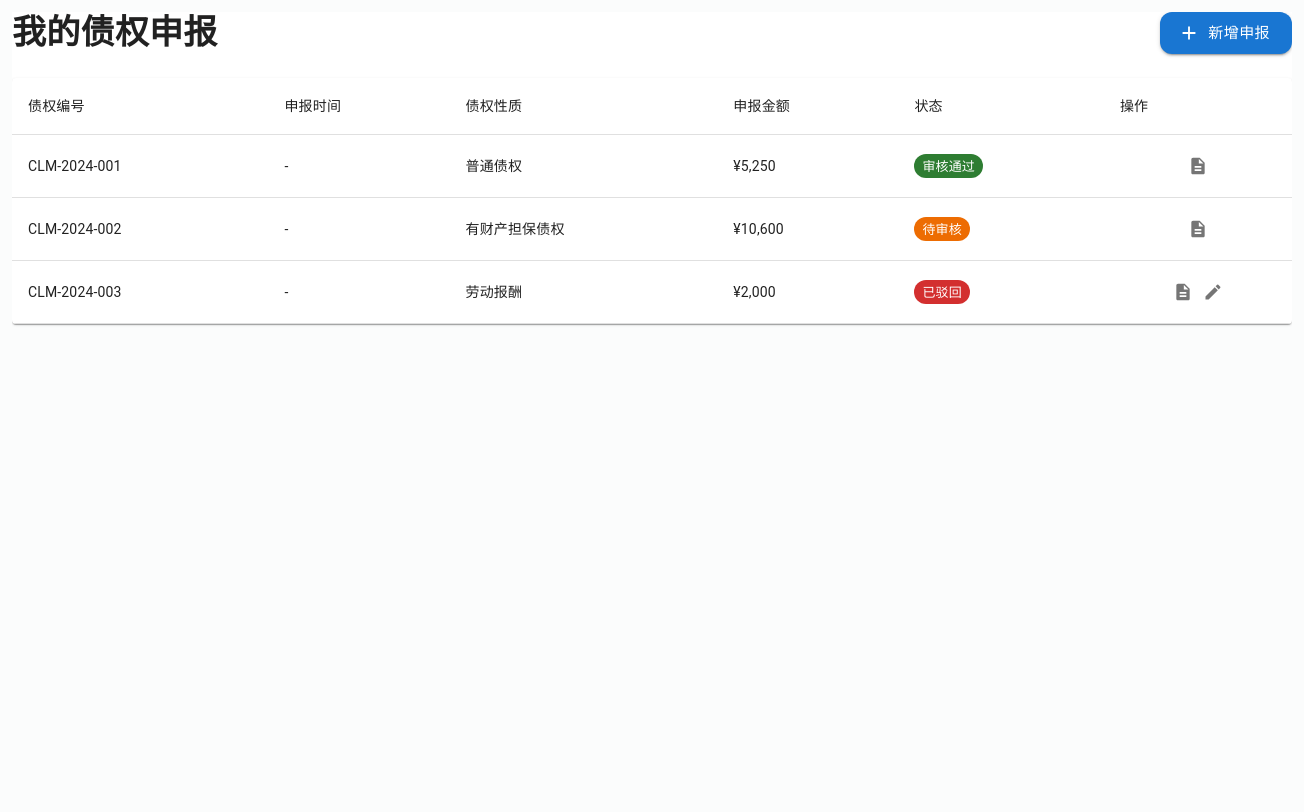
Test: ClaimSubmissionPage › navigates back to list when back button is clicked
Click the button "新增申报": (1226, 33) [1160,12,1292,54]
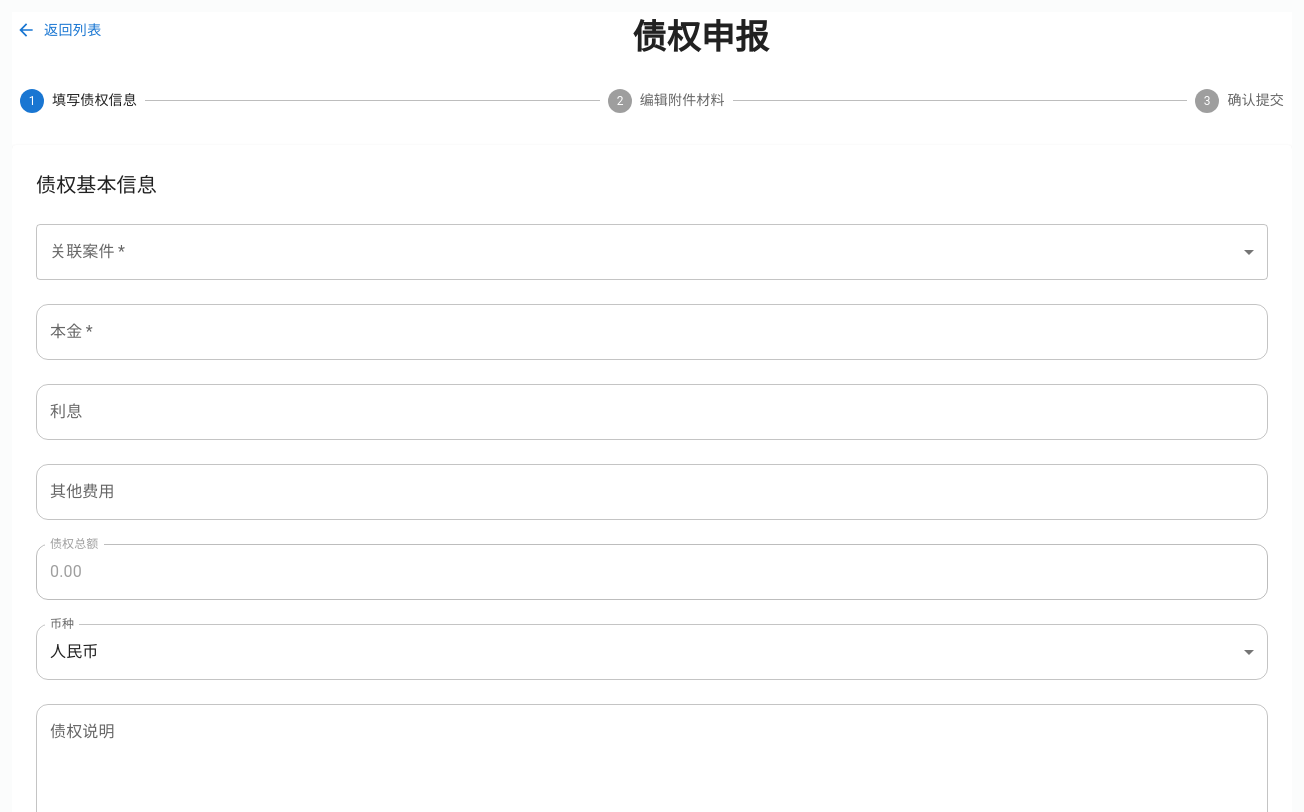
Expected: the heading "债权申报" is shown, [632,17,769,59]
Click the button "返回列表": (61, 30) [12,12,110,48]
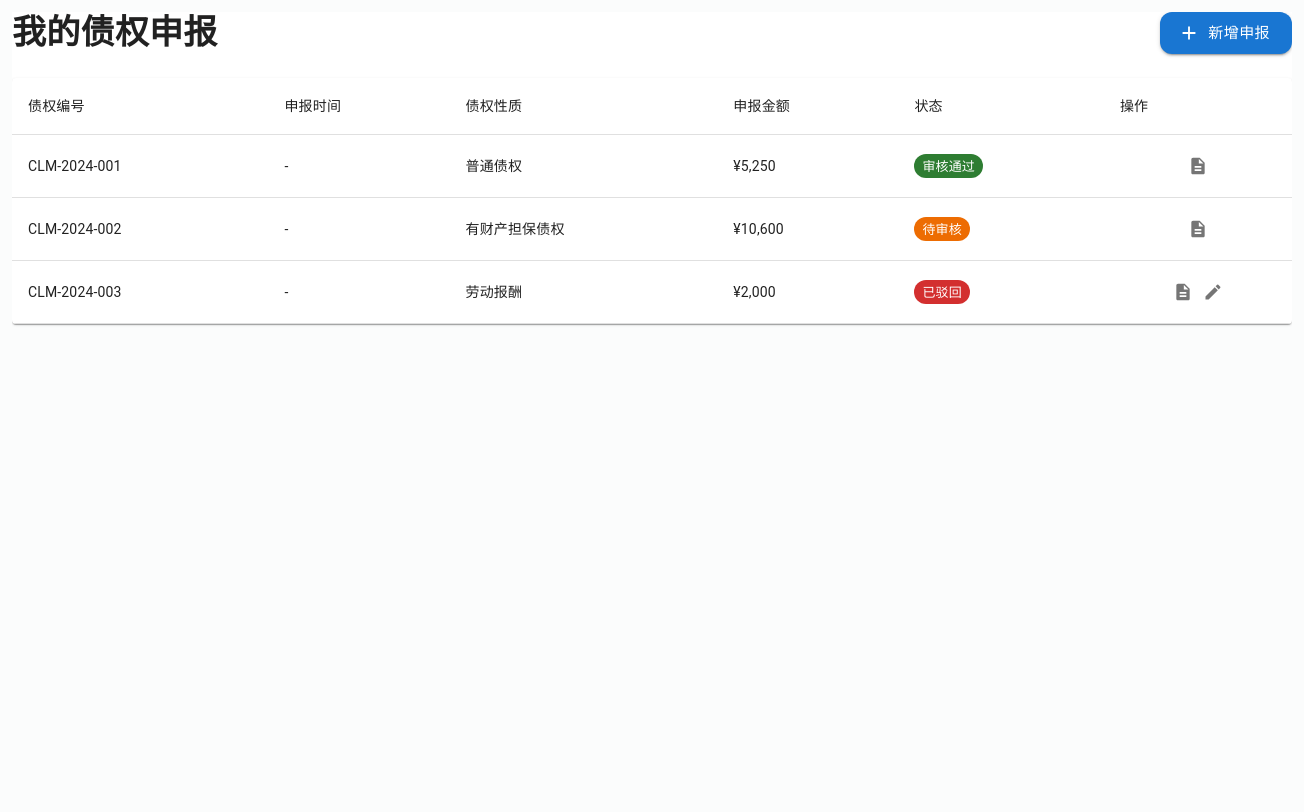
Now the heading "我的债权申报" is shown, box [12,12,218,54]
Now the button "新增申报" is shown, box [1160,12,1292,54]
